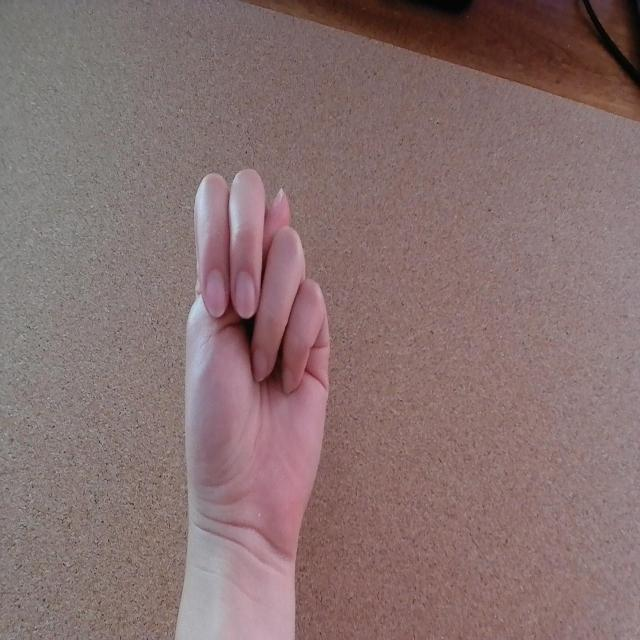N: (181, 164, 335, 563)
